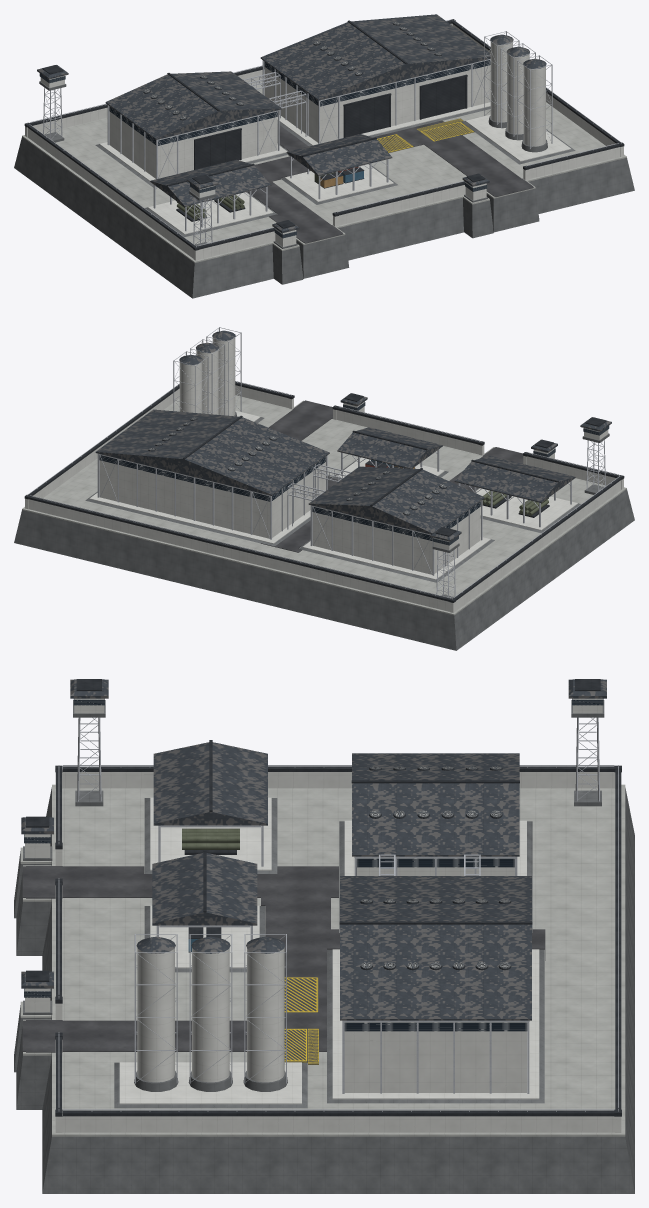
File: abm_plant_lvl2.glb
3 renders of one model, top to bottom at view 1: azimuth 30°, elevation 25°; view 2: azimuth 150°, elevation 25°; view 3: azimuth 270°, elevation 25°, orthographic. The views are drawn at different scales.
Visible parts, largest first — view 1: PLT_L2_ConcLight, PLT_L2_ConcDark, PLT_L2_RoofCorr, PLT_L2_ConcMid, PLT_L2_SteelTruss, PLT_L2_Asphalt, PLT_L2_SteelDark, PLT_L2_DoorCorr, PLT_L2_WindowDark, PLT_L2_HatchZone, PLT_L2_RoofVent, PLT_L2_MilOlive; view 2: PLT_L2_ConcLight, PLT_L2_RoofCorr, PLT_L2_ConcDark, PLT_L2_ConcMid, PLT_L2_SteelTruss, PLT_L2_SteelDark, PLT_L2_Asphalt, PLT_L2_WindowDark, PLT_L2_RoofVent, PLT_L2_MilOlive; view 3: PLT_L2_RoofCorr, PLT_L2_ConcMid, PLT_L2_ConcLight, PLT_L2_ConcDark, PLT_L2_Asphalt, PLT_L2_SteelDark, PLT_L2_SteelTruss, PLT_L2_WindowDark, PLT_L2_HatchZone, PLT_L2_RoofVent, PLT_L2_MilOlive.
Boxes of the visible parts, box(x1,y1,x2,y2) form: PLT_L2_ConcLight: box(25, 23, 623, 260); PLT_L2_ConcDark: box(14, 81, 634, 298); PLT_L2_RoofCorr: box(37, 14, 546, 233); PLT_L2_ConcMid: box(22, 81, 626, 262); PLT_L2_SteelTruss: box(27, 19, 621, 247); PLT_L2_Asphalt: box(247, 120, 533, 243); PLT_L2_SteelDark: box(24, 19, 624, 250); PLT_L2_DoorCorr: box(196, 77, 465, 169); PLT_L2_WindowDark: box(39, 60, 490, 238); PLT_L2_HatchZone: box(377, 118, 474, 152); PLT_L2_RoofVent: box(143, 22, 441, 119); PLT_L2_MilOlive: box(176, 172, 335, 220); PLT_L2_ConcLight: box(25, 338, 623, 612); PLT_L2_RoofCorr: box(95, 330, 611, 541); PLT_L2_ConcDark: box(14, 412, 634, 650); PLT_L2_ConcMid: box(22, 395, 626, 615); PLT_L2_SteelTruss: box(27, 327, 621, 599); PLT_L2_SteelDark: box(24, 381, 624, 602); PLT_L2_Asphalt: box(260, 400, 523, 552); PLT_L2_WindowDark: box(99, 402, 609, 545); PLT_L2_RoofVent: box(148, 417, 446, 514); PLT_L2_MilOlive: box(482, 490, 548, 516); PLT_L2_RoofCorr: box(21, 679, 606, 1020); PLT_L2_ConcMid: box(20, 784, 625, 1136); PLT_L2_ConcLight: box(24, 698, 621, 1132); PLT_L2_ConcDark: box(14, 700, 634, 1193); PLT_L2_Asphalt: box(22, 866, 545, 1052); PLT_L2_SteelDark: box(26, 679, 621, 1116); PLT_L2_SteelTruss: box(58, 717, 618, 1111); PLT_L2_WindowDark: box(24, 698, 603, 1031); PLT_L2_HatchZone: box(284, 977, 318, 1064); PLT_L2_RoofVent: box(361, 766, 510, 968); PLT_L2_MilOlive: box(182, 828, 239, 849).
Bounding box in the file's own units: 140 × 36.5 × 102.
15 materials, 15 textured.
